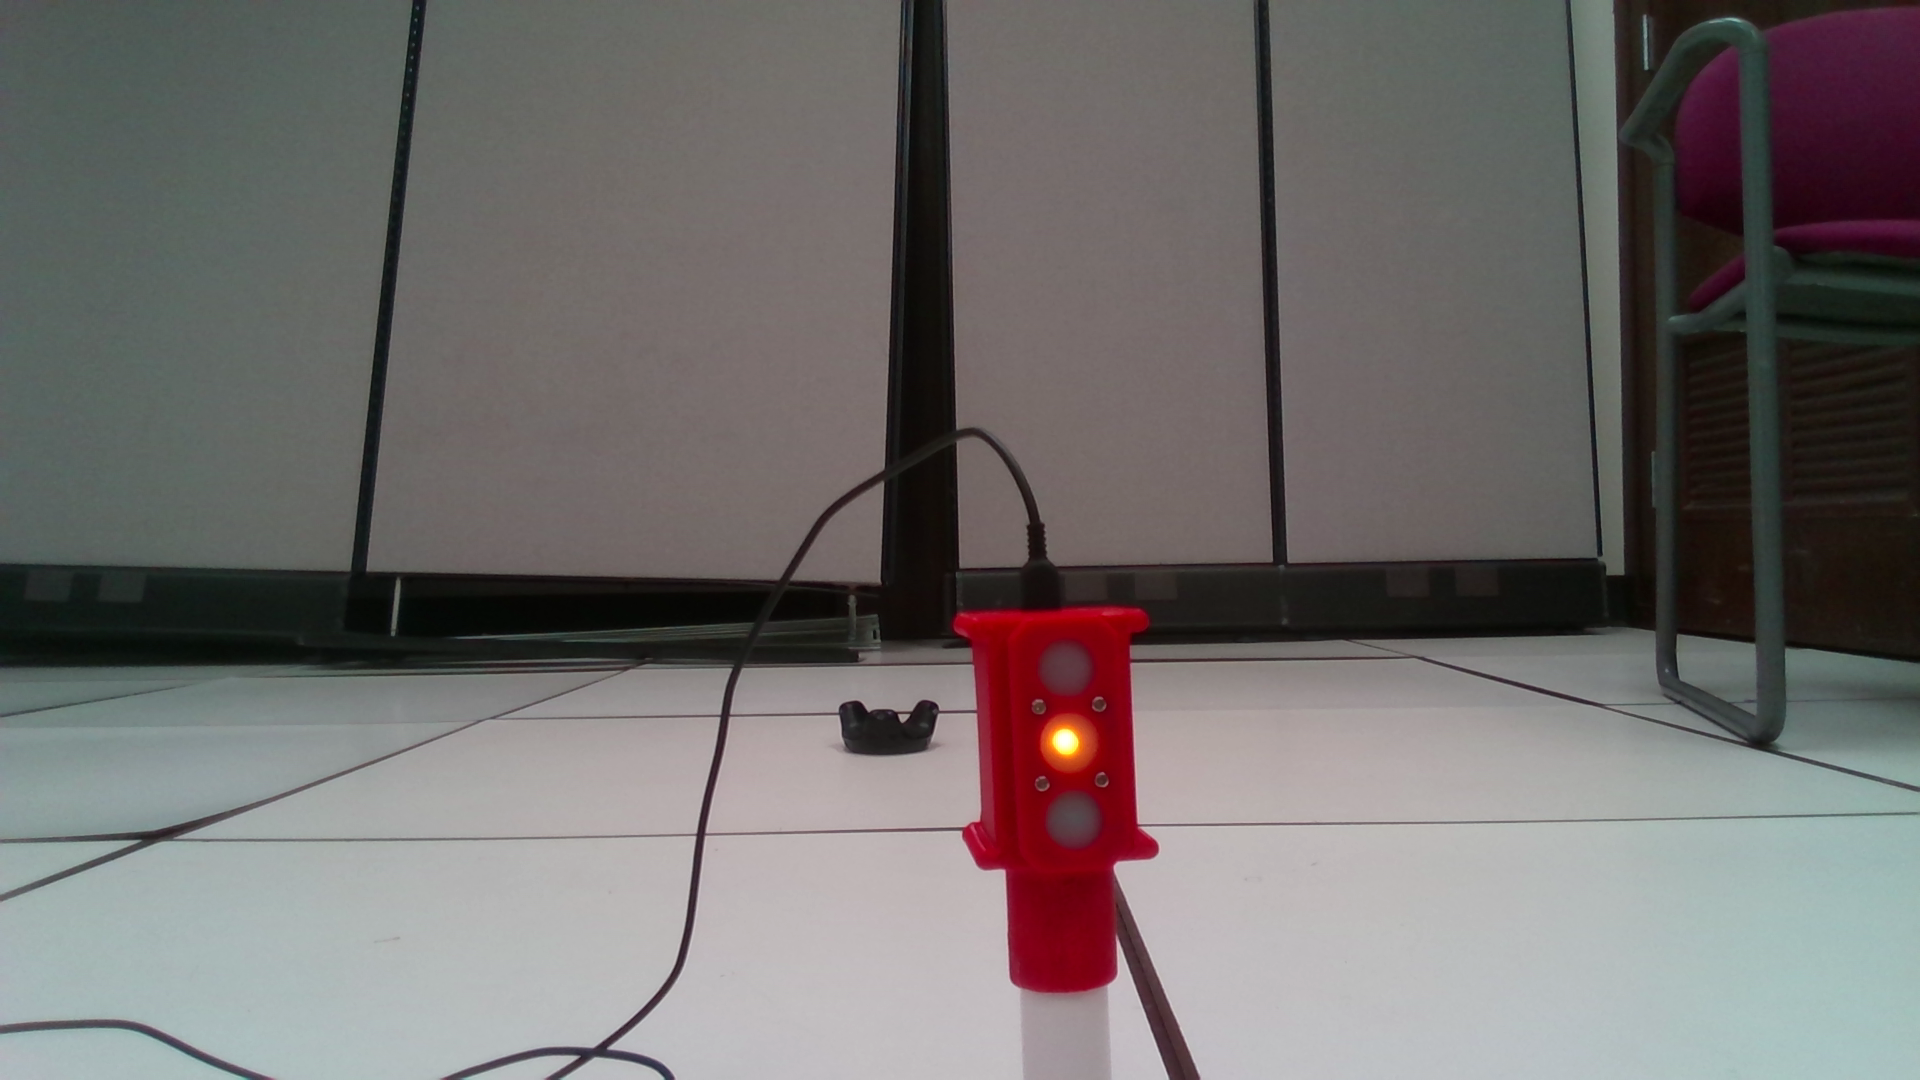stoplight: (949, 605, 1158, 992)
